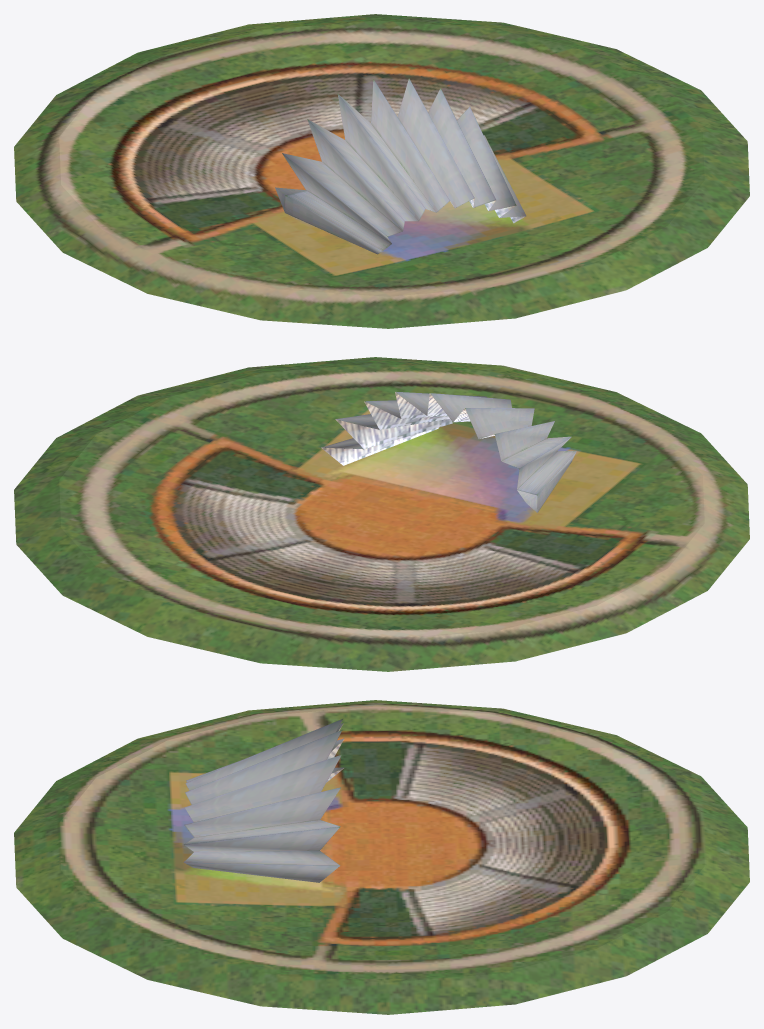
Rendered from Amfi2.gltf.
The picture shows the model from 3 angles, top to bottom: view 1: azimuth 30°, elevation 25°; view 2: azimuth 150°, elevation 25°; view 3: azimuth 270°, elevation 25°; orthographic projection.
Visible parts, largest first — view 1: node1; view 2: node1; view 3: node1.
Part boxes in pixels (x1,y1,x2,y2): node1: (14, 14, 749, 328); node1: (14, 357, 749, 671); node1: (14, 700, 749, 1014).
Size of the model in its own units: 150 by 25.34 by 148.
